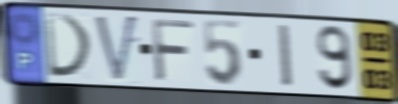5: (202, 17, 244, 89)
9: (314, 23, 356, 94)
D: (42, 11, 96, 80)
F: (149, 17, 197, 85)
I: (276, 22, 296, 90)
V: (92, 13, 141, 86)
